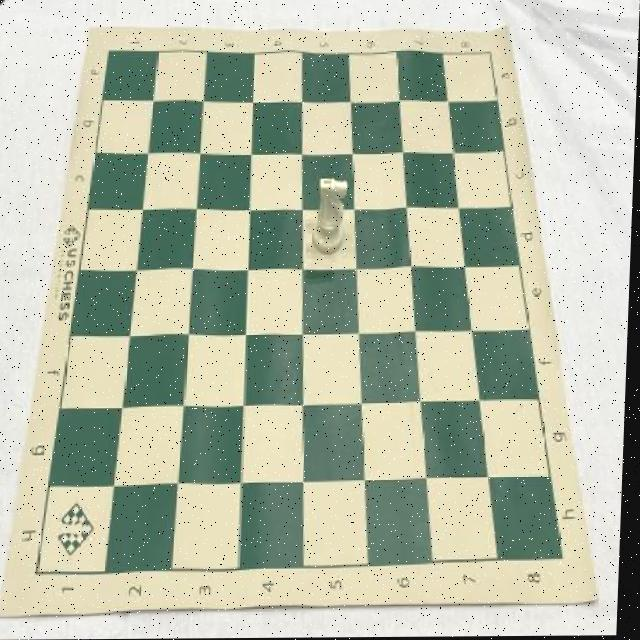white-king: (311, 176, 349, 256)
